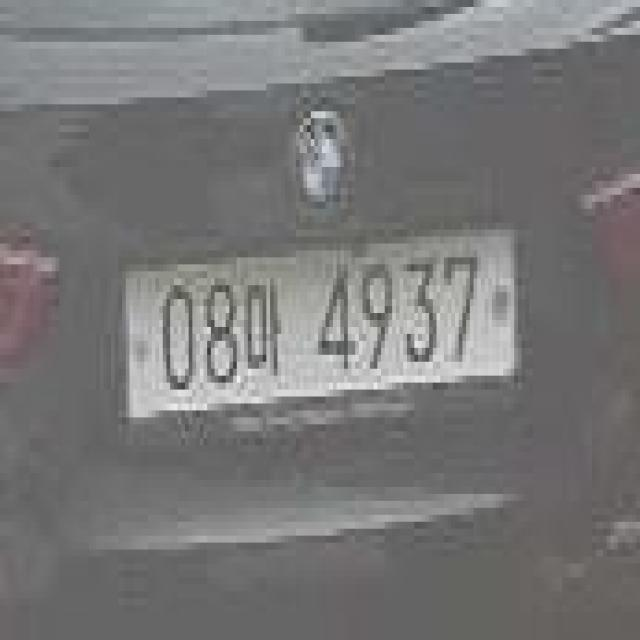illegal_plate: (118, 226, 528, 438)
